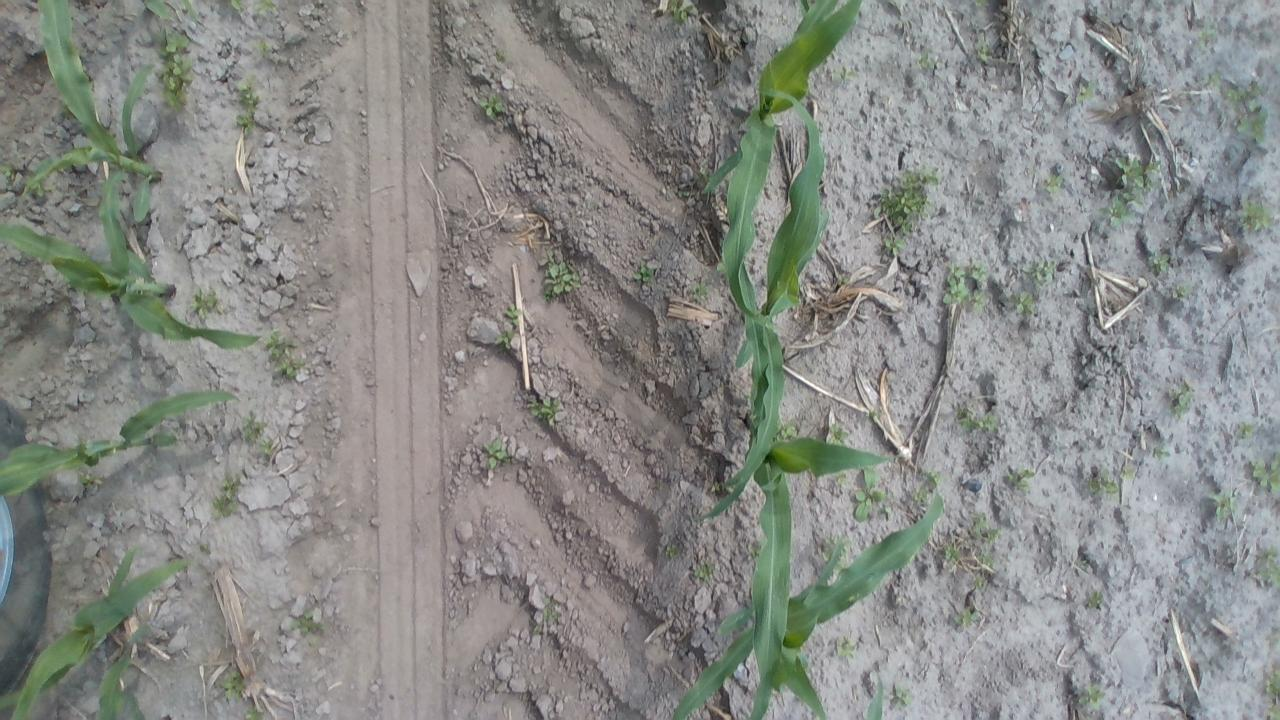Maize: (666, 480, 939, 720), (0, 152, 278, 347), (700, 0, 866, 317), (711, 102, 828, 508), (15, 0, 166, 268), (2, 544, 199, 720), (1, 383, 245, 499), (94, 637, 157, 718), (862, 665, 887, 719)
Weeds: (873, 164, 940, 249), (1097, 151, 1164, 225), (154, 28, 197, 111), (262, 330, 308, 380), (540, 250, 584, 300), (853, 468, 891, 521), (942, 260, 982, 306), (214, 473, 246, 521), (1236, 103, 1272, 145), (524, 390, 567, 424), (286, 608, 325, 644), (1236, 196, 1271, 234), (954, 402, 998, 432), (1167, 379, 1198, 420), (144, 0, 192, 26), (235, 77, 262, 122), (1086, 467, 1121, 500), (1208, 485, 1240, 521), (190, 286, 222, 320), (968, 510, 1002, 542), (914, 466, 942, 502), (482, 437, 512, 470), (1254, 545, 1276, 590), (1024, 256, 1056, 286), (1222, 81, 1260, 106), (240, 410, 267, 445), (1250, 456, 1276, 492), (1006, 463, 1036, 492), (220, 671, 248, 701), (821, 535, 851, 562), (1260, 666, 1276, 715), (1010, 290, 1040, 316), (235, 100, 259, 132), (479, 92, 505, 121), (833, 635, 861, 661), (940, 540, 965, 567), (954, 604, 982, 628), (538, 595, 561, 624), (831, 62, 860, 84), (670, 0, 694, 26), (1078, 684, 1104, 708), (1148, 249, 1172, 274), (631, 262, 656, 286), (1074, 79, 1098, 103), (826, 424, 850, 447), (1042, 170, 1064, 195), (692, 559, 714, 583), (892, 684, 912, 710), (975, 550, 997, 573), (252, 38, 276, 59), (29, 179, 54, 199), (0, 162, 20, 187), (690, 278, 709, 304), (1194, 22, 1214, 44), (972, 292, 990, 316), (976, 36, 994, 60), (242, 703, 270, 718), (1151, 441, 1172, 461), (673, 182, 692, 204), (158, 431, 182, 448), (1236, 420, 1256, 440), (494, 330, 514, 350), (917, 50, 935, 72), (1086, 590, 1104, 612), (252, 0, 276, 16), (77, 472, 99, 489), (1204, 71, 1222, 91), (504, 303, 520, 325), (778, 422, 797, 440), (1170, 285, 1190, 302), (260, 438, 276, 457), (696, 164, 712, 182), (972, 571, 988, 589), (664, 542, 680, 558), (866, 407, 882, 422), (834, 468, 848, 484), (1122, 464, 1136, 480), (230, 0, 244, 12), (1078, 558, 1090, 572), (494, 48, 506, 60), (974, 0, 988, 9)
